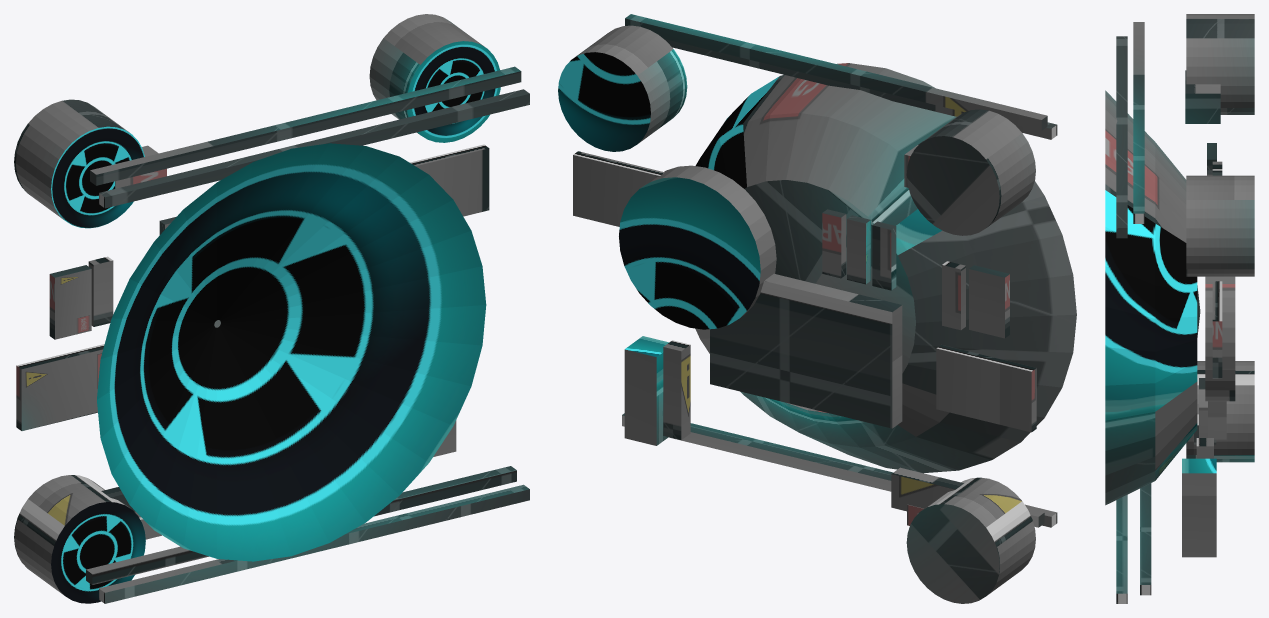
The model's file is goal.dae.
3 renders of one model, left to right at view 1: azimuth 30°, elevation 25°; view 2: azimuth 150°, elevation 25°; view 3: azimuth 270°, elevation 25°, orthographic. The views are drawn at different scales.
Visible parts, largest first — view 1: Cylinder_018; view 2: Cylinder_018; view 3: Cylinder_018.
Part boxes in pixels (x1=…): Cylinder_018: x1=14, y1=14, x2=529, y2=603; Cylinder_018: x1=558, y1=14, x2=1076, y2=603; Cylinder_018: x1=1105, y1=14, x2=1254, y2=603.
Bounding box in the file's own units: 4.54 × 4.4 × 1.36.
1 material, 1 textured.
